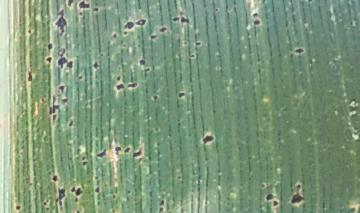tarspot: (52, 6, 69, 36), (47, 93, 60, 124), (289, 179, 302, 206), (199, 130, 216, 145), (55, 185, 66, 207), (134, 15, 146, 30), (131, 145, 144, 158), (123, 20, 136, 32), (126, 79, 140, 90), (95, 148, 108, 159), (25, 69, 35, 83), (57, 57, 67, 71), (179, 14, 190, 26), (77, 1, 91, 10), (90, 4, 101, 15), (292, 46, 304, 56), (157, 24, 169, 34), (73, 185, 83, 197), (249, 9, 260, 19), (91, 61, 101, 72), (56, 47, 66, 58), (93, 185, 104, 195), (263, 193, 275, 202), (176, 89, 185, 101), (114, 82, 126, 91), (57, 83, 65, 96), (193, 39, 203, 49), (170, 15, 180, 25), (44, 55, 54, 65), (66, 59, 74, 71), (12, 203, 24, 211), (114, 144, 122, 156), (63, 1, 76, 8), (188, 51, 197, 61), (59, 97, 69, 106), (136, 58, 147, 66), (147, 33, 159, 40), (67, 116, 74, 128), (110, 31, 119, 40), (141, 65, 152, 72), (150, 93, 159, 101), (46, 42, 54, 51), (76, 74, 85, 82), (123, 146, 132, 154), (158, 198, 166, 207), (42, 198, 50, 207), (93, 173, 101, 182), (251, 19, 261, 26), (110, 192, 118, 200), (181, 38, 188, 47), (115, 74, 122, 83), (121, 30, 130, 37), (25, 28, 34, 35), (51, 174, 58, 183), (157, 206, 166, 213), (259, 182, 266, 191), (272, 200, 279, 208), (77, 11, 85, 18), (69, 185, 76, 193), (73, 196, 80, 204), (81, 161, 90, 167), (73, 208, 83, 213), (177, 9, 184, 16), (175, 174, 182, 181), (125, 189, 133, 195), (108, 208, 117, 213), (80, 155, 87, 161), (214, 6, 219, 13), (45, 206, 50, 212)
